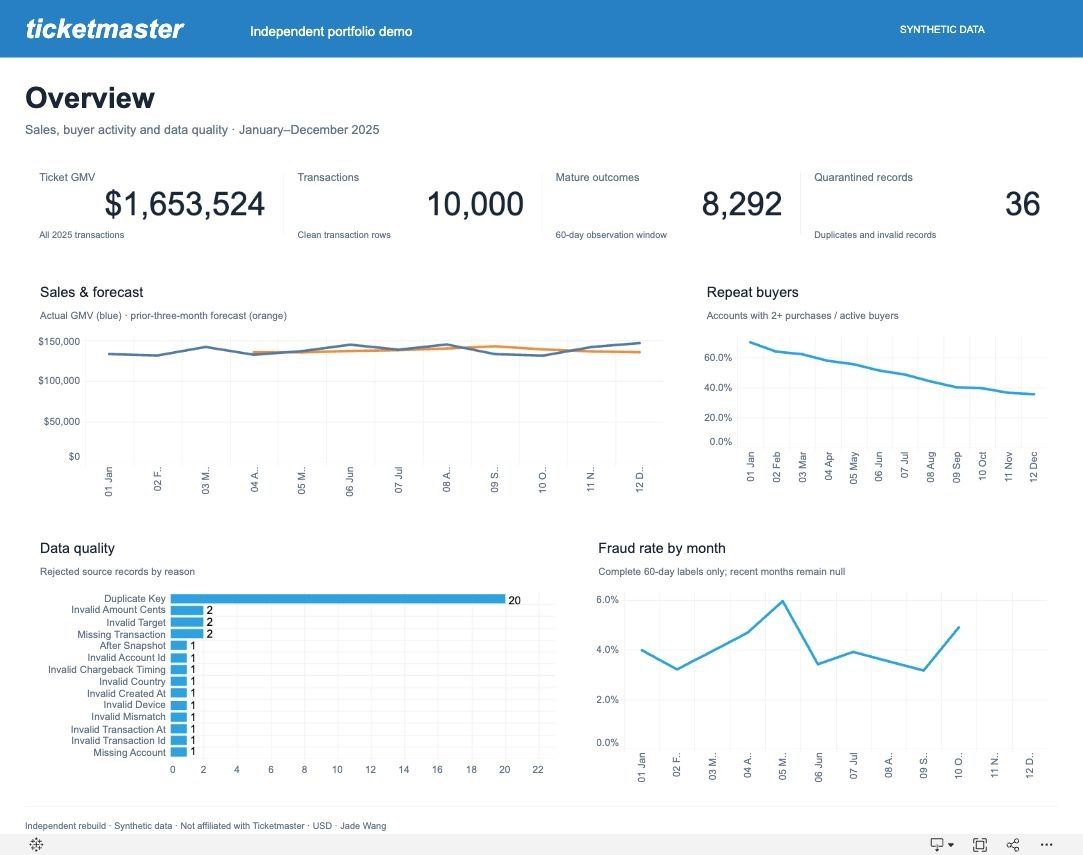

Layout of this report page (visuals, bound fields, positions):
{"tool":"tableau","page":{"name":"01 Sales and automation","canvas":[1300,1000],"ordinal":0},"visuals":[{"type":"text","box":[0,0,1300,68]},{"type":"text","box":[30,8,250,52]},{"type":"text","box":[300,24,650,25]},{"type":"text","box":[1080,26,190,20]},{"type":"title","box":[30,96,1010,42]},{"type":"text","box":[30,143,1240,24]},{"type":"text","box":[30,190,1240,104]},{"type":"text","box":[47,200,275,19]},{"type":"text","box":[357,200,275,19]},{"type":"text","box":[667,200,275,19]},{"type":"text","box":[977,200,275,19]},{"type":"text","box":[340,205,1,74]},{"type":"text","box":[650,205,1,74]},{"type":"text","box":[960,205,1,74]},{"type":"worksheet","title":"Total GMV","mark":"Text","box":[43,220,280,44]},{"type":"worksheet","title":"Clean transactions","mark":"Text","box":[353,220,280,44]},{"type":"worksheet","title":"Mature labels","mark":"Text","box":[663,220,280,44]},{"type":"worksheet","title":"Quarantined rows","mark":"Text","box":[973,220,280,44]},{"type":"text","box":[47,272,275,16]},{"type":"text","box":[357,272,275,16]},{"type":"text","box":[667,272,275,16]},{"type":"text","box":[977,272,275,16]},{"type":"text","box":[30,320,780,285]},{"type":"text","box":[830,320,440,285]},{"type":"text","box":[48,336,744,24]},{"type":"text","box":[848,336,404,24]},{"type":"text","box":[48,364,744,23]},{"type":"text","box":[848,364,404,23]},{"type":"worksheet","title":"Monthly sales and rolling forecast","mark":"Line","rows":["value"],"cols":["period"],"box":[44,400,752,192]},{"type":"worksheet","title":"Repeat buyers by month","mark":"Line","rows":["repeat_buyer_share"],"cols":["period"],"box":[844,400,412,192]},{"type":"text","box":[30,625,650,320]},{"type":"text","box":[700,625,570,320]},{"type":"text","box":[48,641,614,24]},{"type":"text","box":[718,641,534,24]},{"type":"text","box":[48,669,614,23]},{"type":"text","box":[718,669,534,23]},{"type":"worksheet","title":"SQL quarantine by reason","mark":"Bar","rows":["issue"],"cols":["rows"],"box":[44,705,622,227]},{"type":"worksheet","title":"Fully matured fraud rates","mark":"Line","rows":["mature_fraud_rate"],"cols":["period"],"box":[714,705,542,227]},{"type":"text","box":[30,959,1240,1]},{"type":"text","box":[30,974,1240,18]}]}

Visuals, with their boxes on the page's 1300x1000 design canvas (x1, y1, x2, y2). These are canvas units, not pixel positions in the 1083x855 screenshot, which may show the page scaled, cropped or inside an application window:
text: 0:0:1300:68
text: 30:8:280:60
text: 300:24:950:49
text: 1080:26:1270:46
title: 30:96:1040:138
text: 30:143:1270:167
text: 30:190:1270:294
text: 47:200:322:219
text: 357:200:632:219
text: 667:200:942:219
text: 977:200:1252:219
text: 340:205:341:279
text: 650:205:651:279
text: 960:205:961:279
"Total GMV" worksheet (Text marks): 43:220:323:264
"Clean transactions" worksheet (Text marks): 353:220:633:264
"Mature labels" worksheet (Text marks): 663:220:943:264
"Quarantined rows" worksheet (Text marks): 973:220:1253:264
text: 47:272:322:288
text: 357:272:632:288
text: 667:272:942:288
text: 977:272:1252:288
text: 30:320:810:605
text: 830:320:1270:605
text: 48:336:792:360
text: 848:336:1252:360
text: 48:364:792:387
text: 848:364:1252:387
"Monthly sales and rolling forecast" worksheet (Line marks): 44:400:796:592
"Repeat buyers by month" worksheet (Line marks): 844:400:1256:592
text: 30:625:680:945
text: 700:625:1270:945
text: 48:641:662:665
text: 718:641:1252:665
text: 48:669:662:692
text: 718:669:1252:692
"SQL quarantine by reason" worksheet (Bar marks): 44:705:666:932
"Fully matured fraud rates" worksheet (Line marks): 714:705:1256:932
text: 30:959:1270:960
text: 30:974:1270:992
